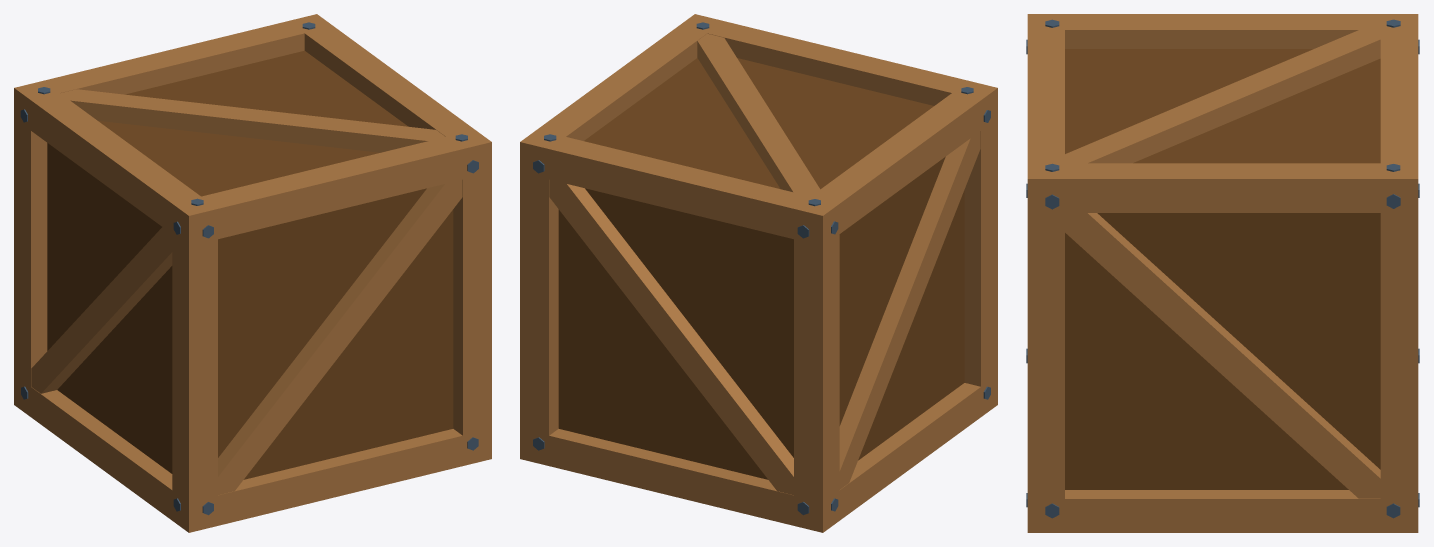
The model's file is thung go.fbx.
3 renders of one model, left to right at view 1: azimuth 30°, elevation 25°; view 2: azimuth 150°, elevation 25°; view 3: azimuth 270°, elevation 25°, orthographic. The views are drawn at different scales.
Visible parts, largest first — view 1: thung_go; view 2: thung_go; view 3: thung_go.
Boxes of the visible parts, <box> form: thung_go: <box>14,14,491,532</box>; thung_go: <box>520,14,997,532</box>; thung_go: <box>1026,14,1419,532</box>.
Bounding box in the file's own units: 202 × 202 × 202.
